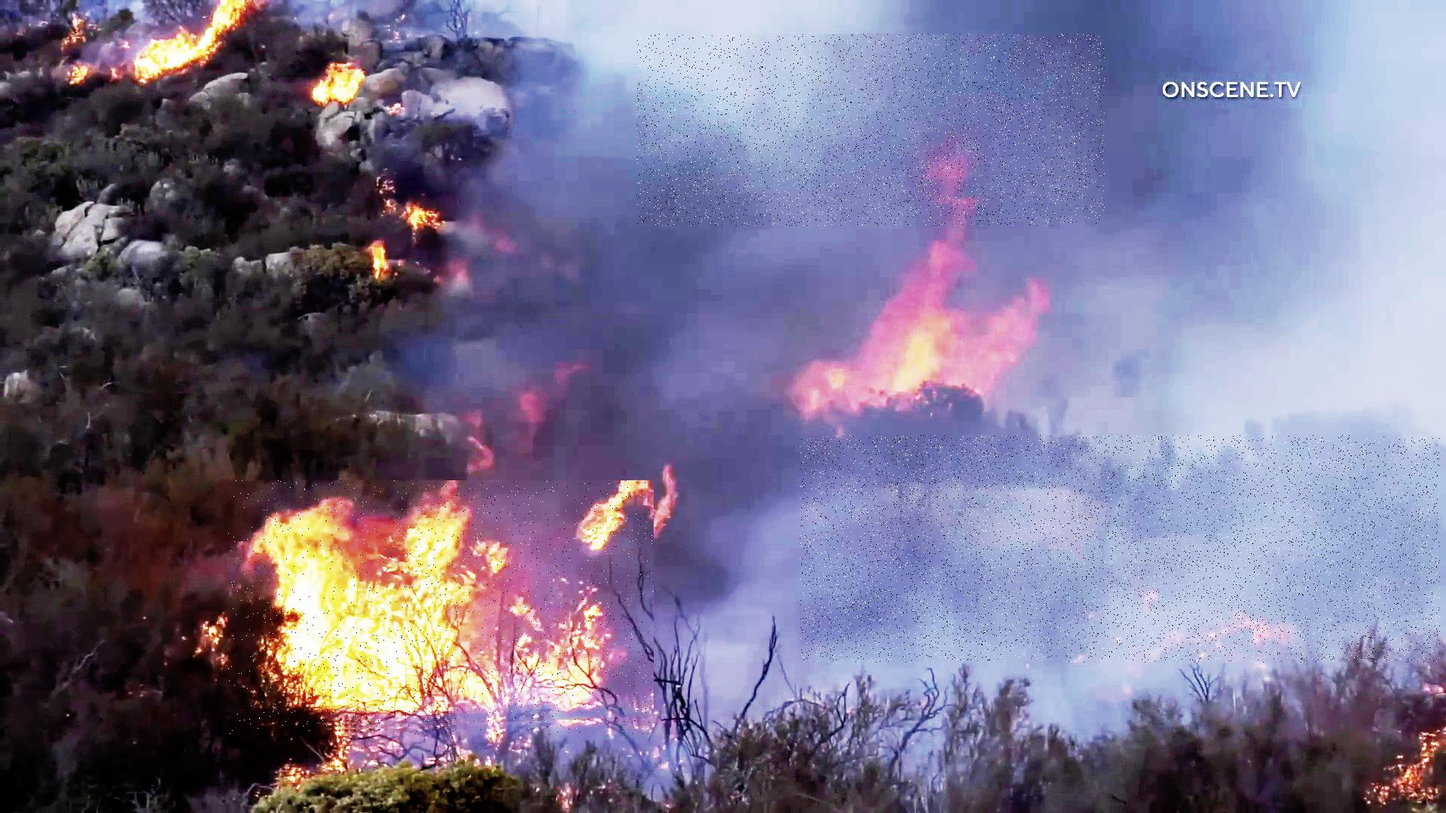fire: (228, 480, 654, 735)
smoke: (800, 435, 1441, 663), (637, 34, 1105, 226)
